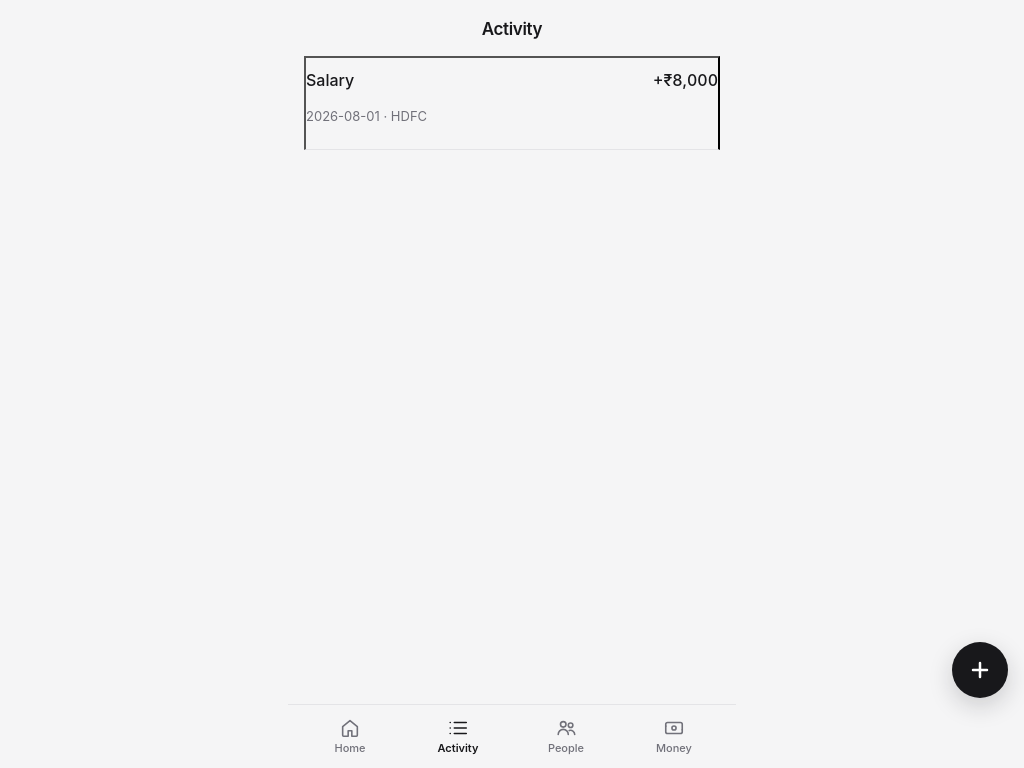
Test: expense correction UI › hides a usable correction action for an ineligible transaction
Click the text "Salary" at (330, 80), box [306, 69, 354, 92]
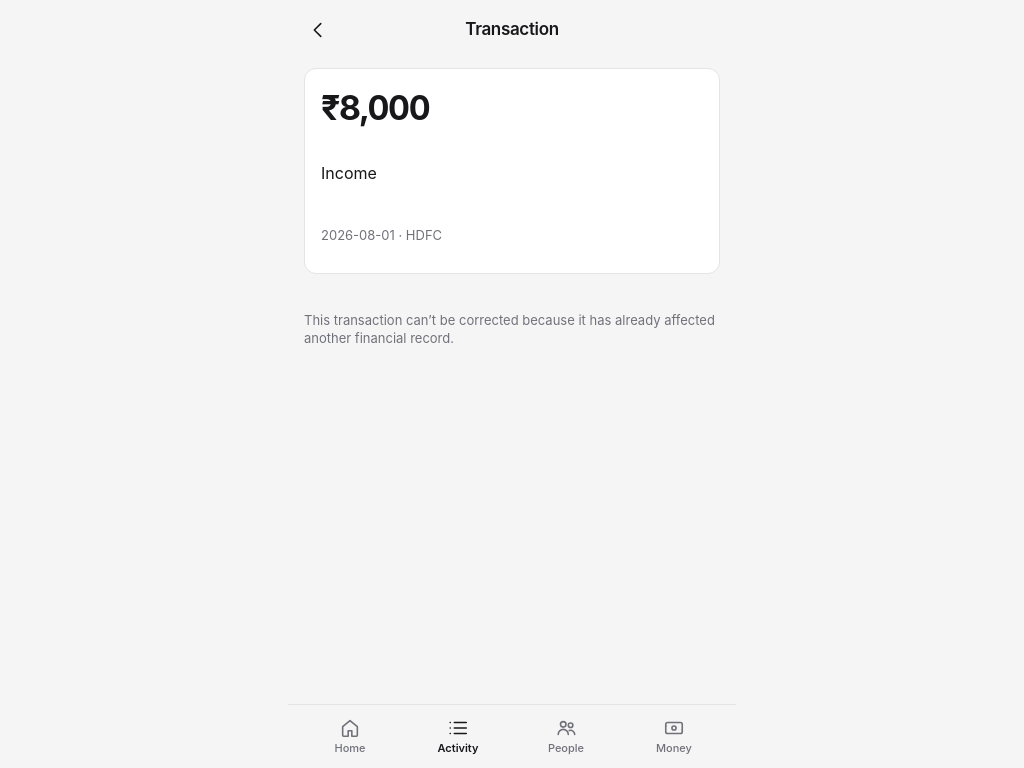
Expected: the text "can’t be corrected" is shown, [304, 312, 715, 346]
